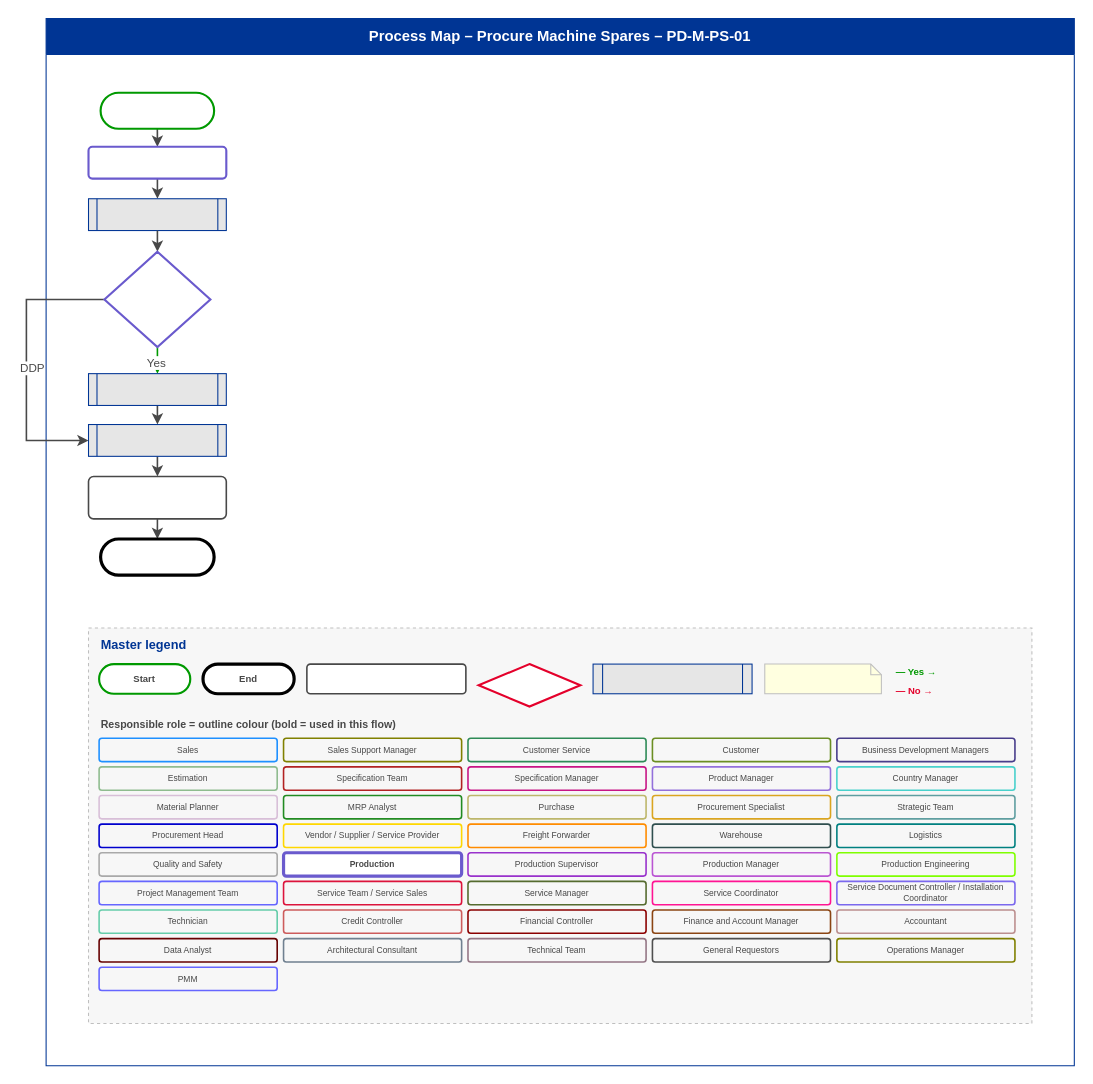
This 1093x1084 diagram has some shape labels left out. The shapes that lost their labels are listed below. From the top down, each one's centre as x and y in pixels, then its label:
At point 157,110: "Start Process".
At point 157,162: "Generate PR for Machine Spare parts".
At point 156,214: "PO Creation (indirect) Ref S#: PP-M-PO-02".
At point 157,299: "Freight on-board (FOB) ?".
At point 156,389: "Goods Shipment Indirect Ref: PP-M-GS-02".
At point 156,439: "PO Inbound Ref S#: WL-M-IB-01".
At point 157,497: "Product storekeeper to stock & update in SAP/ Manual stock keeping".
At point 156,556: "Complete".
At point 386,678: "Activity (outline = role)".
At point 529,684: "Decision".
At point 672,678: "Linked process (Ref ID)".
At point 822,678: "Note / checklist".
